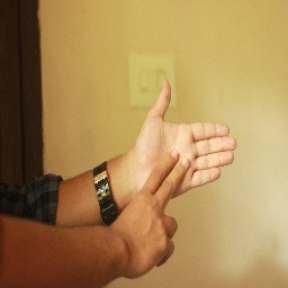N: (116, 80, 240, 267)
